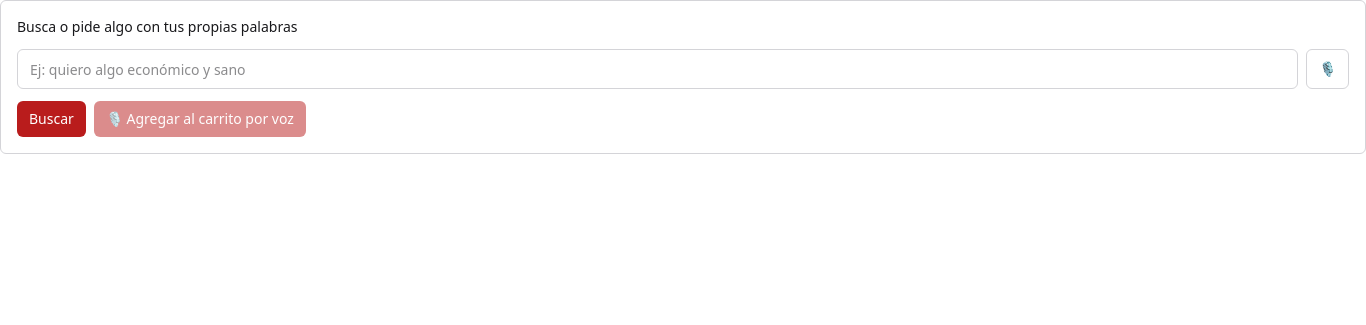
BusquedaPorVoz · agregar por voz (HU-13) › empieza deshabilitado y solo se habilita con una búsqueda con datos en pantalla
Expected: the button "🎙️ Agregar al carrito por voz" is disabled, [94, 101, 306, 137]
Type "quiero pizza" into the field labelled "Busca o pide algo con tus propias palabras" at (658, 69), box [17, 49, 1298, 89]
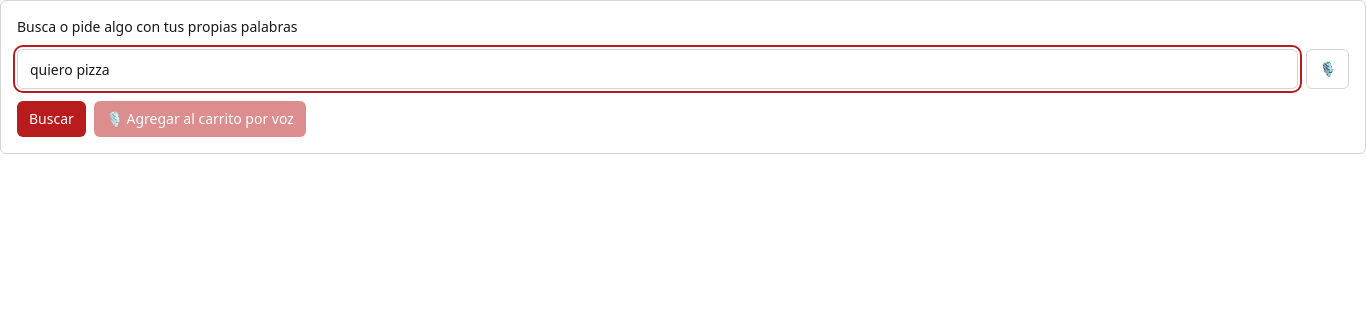
Click the button "Buscar" at (51, 119), box [17, 101, 86, 137]
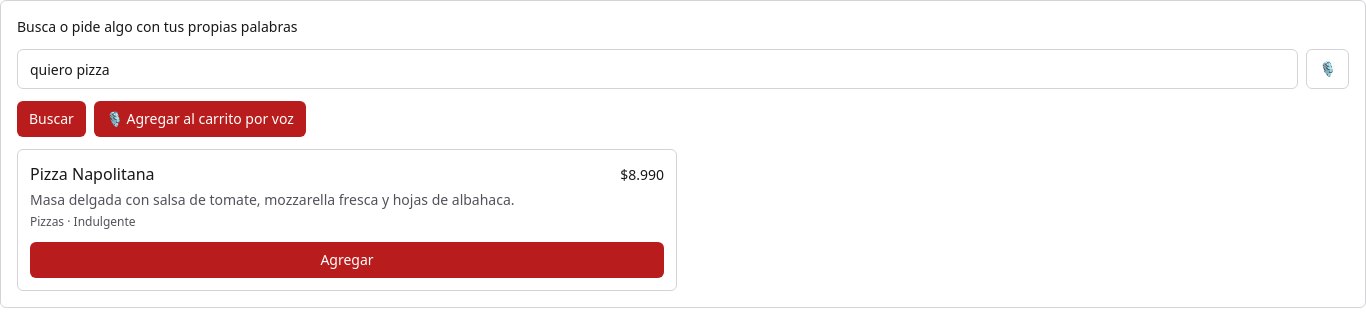
Expected: the text "Pizza Napolitana" is shown, [30, 162, 154, 186]
Expected: the button "🎙️ Agregar al carrito por voz" is enabled, [94, 101, 306, 137]
